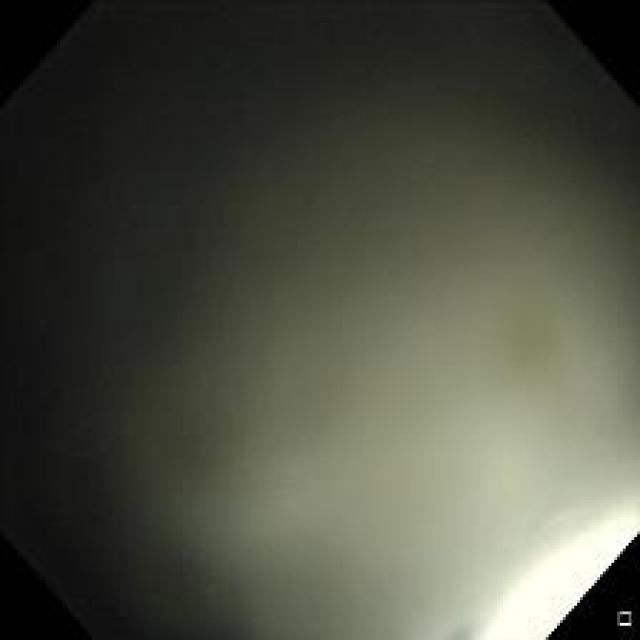color misalignment: (6, 10, 628, 628)
contrast: (24, 26, 356, 331), (8, 359, 248, 624)
saturation: (466, 476, 636, 635)
